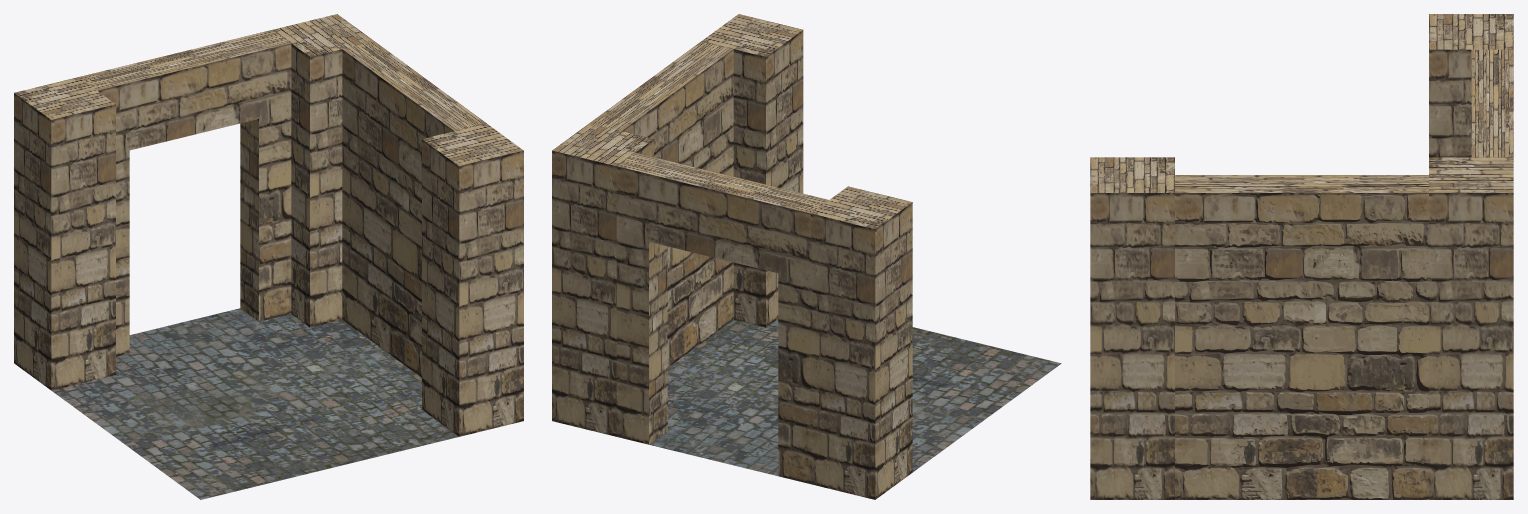
File: 1-NSW-northDoorEastWall.fbx
The picture shows the model from 3 angles, left to right: view 1: azimuth 30°, elevation 25°; view 2: azimuth 150°, elevation 25°; view 3: azimuth 270°, elevation 25°; orthographic projection. The views are drawn at different scales.
Parts seen in each view (by area): view 1: Cube_1, Plane; view 2: Cube_1, Plane; view 3: Cube_1.
Boxes of the visible parts, <box> form: Cube_1: <box>14,14,523,436</box>; Plane: <box>52,308,458,499</box>; Cube_1: <box>552,14,912,499</box>; Plane: <box>649,319,1061,475</box>; Cube_1: <box>1090,14,1513,499</box>.
Size of the model in its own units: 10 by 8 by 10.
3 materials, 3 textured.
